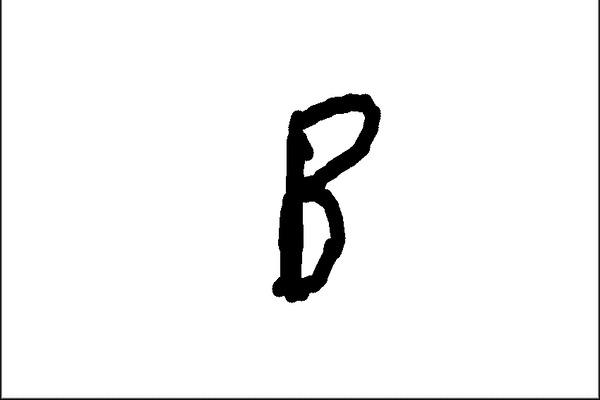B: (265, 87, 383, 309)
